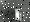person: (22, 9, 27, 21), (16, 10, 20, 21)
